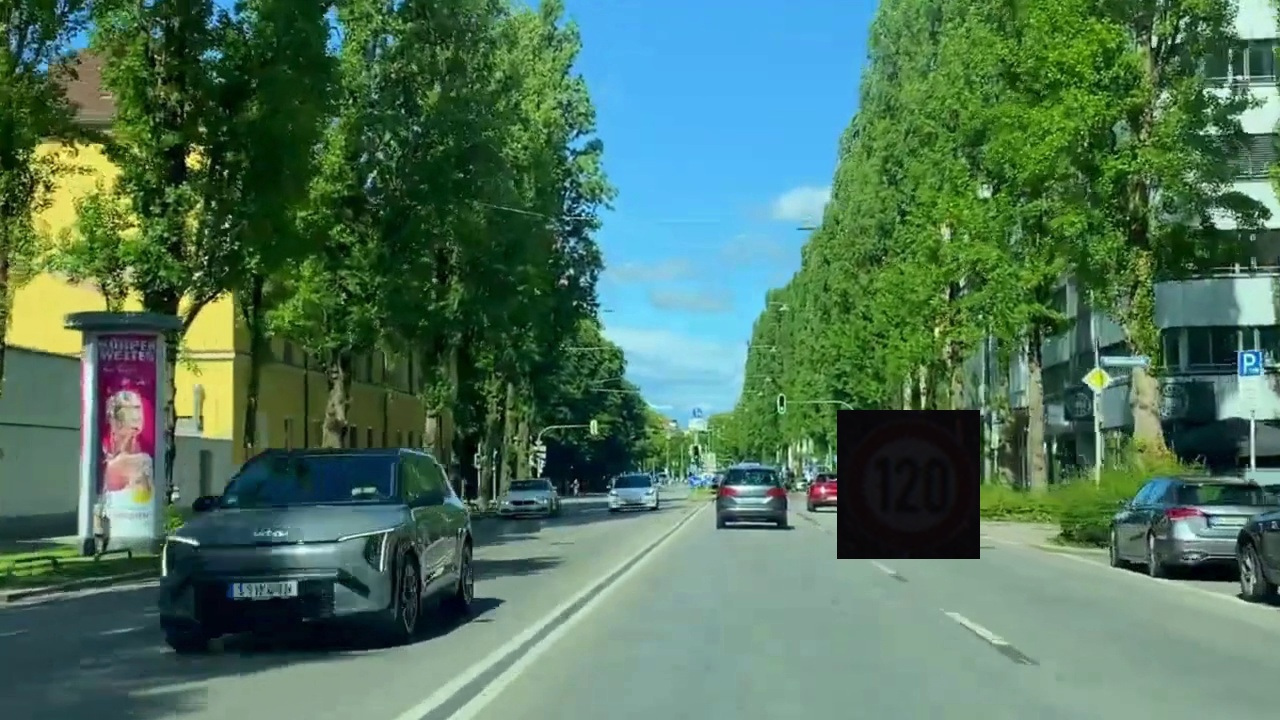Speed 120: (837, 410, 980, 559)
